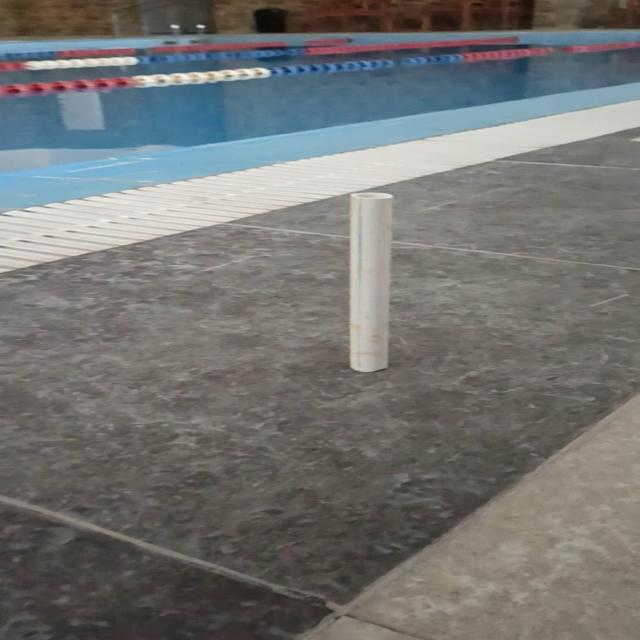Cube: (346, 191, 394, 372)
